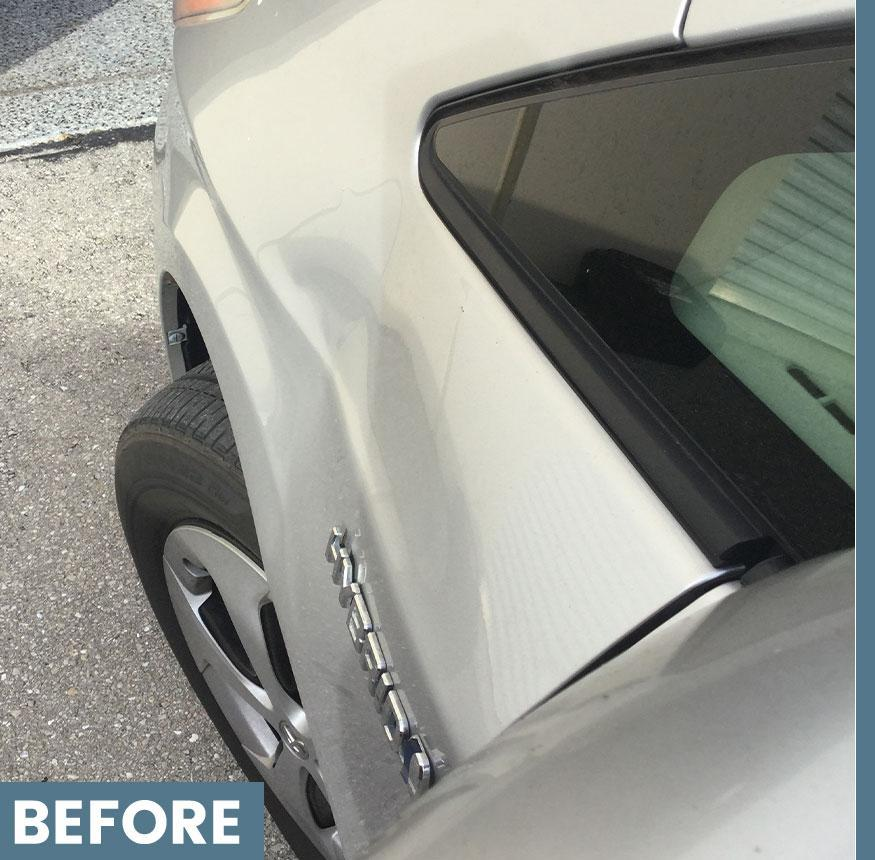dent: (225, 223, 498, 719)
